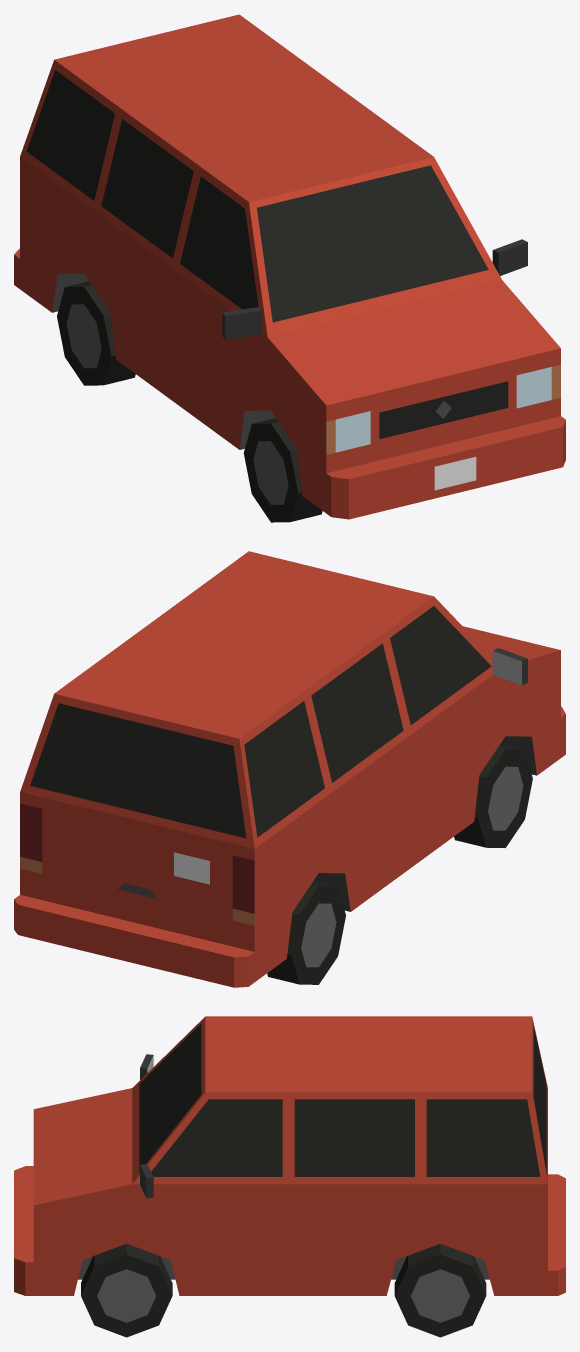
File: Veh_Minivan_Red.obj
3 views of the same model, one above another, from view 1: azimuth 30°, elevation 25°; view 2: azimuth 150°, elevation 25°; view 3: azimuth 270°, elevation 25° (orthographic). The views are drawn at different scales.
Bounding box in the file's own units: 1.31 × 1.16 × 2.46.
